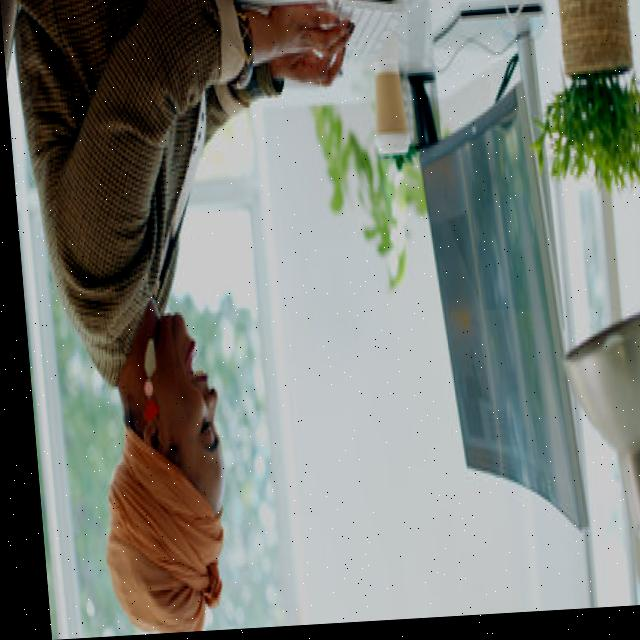desktop-person: (12, 0, 599, 639)
